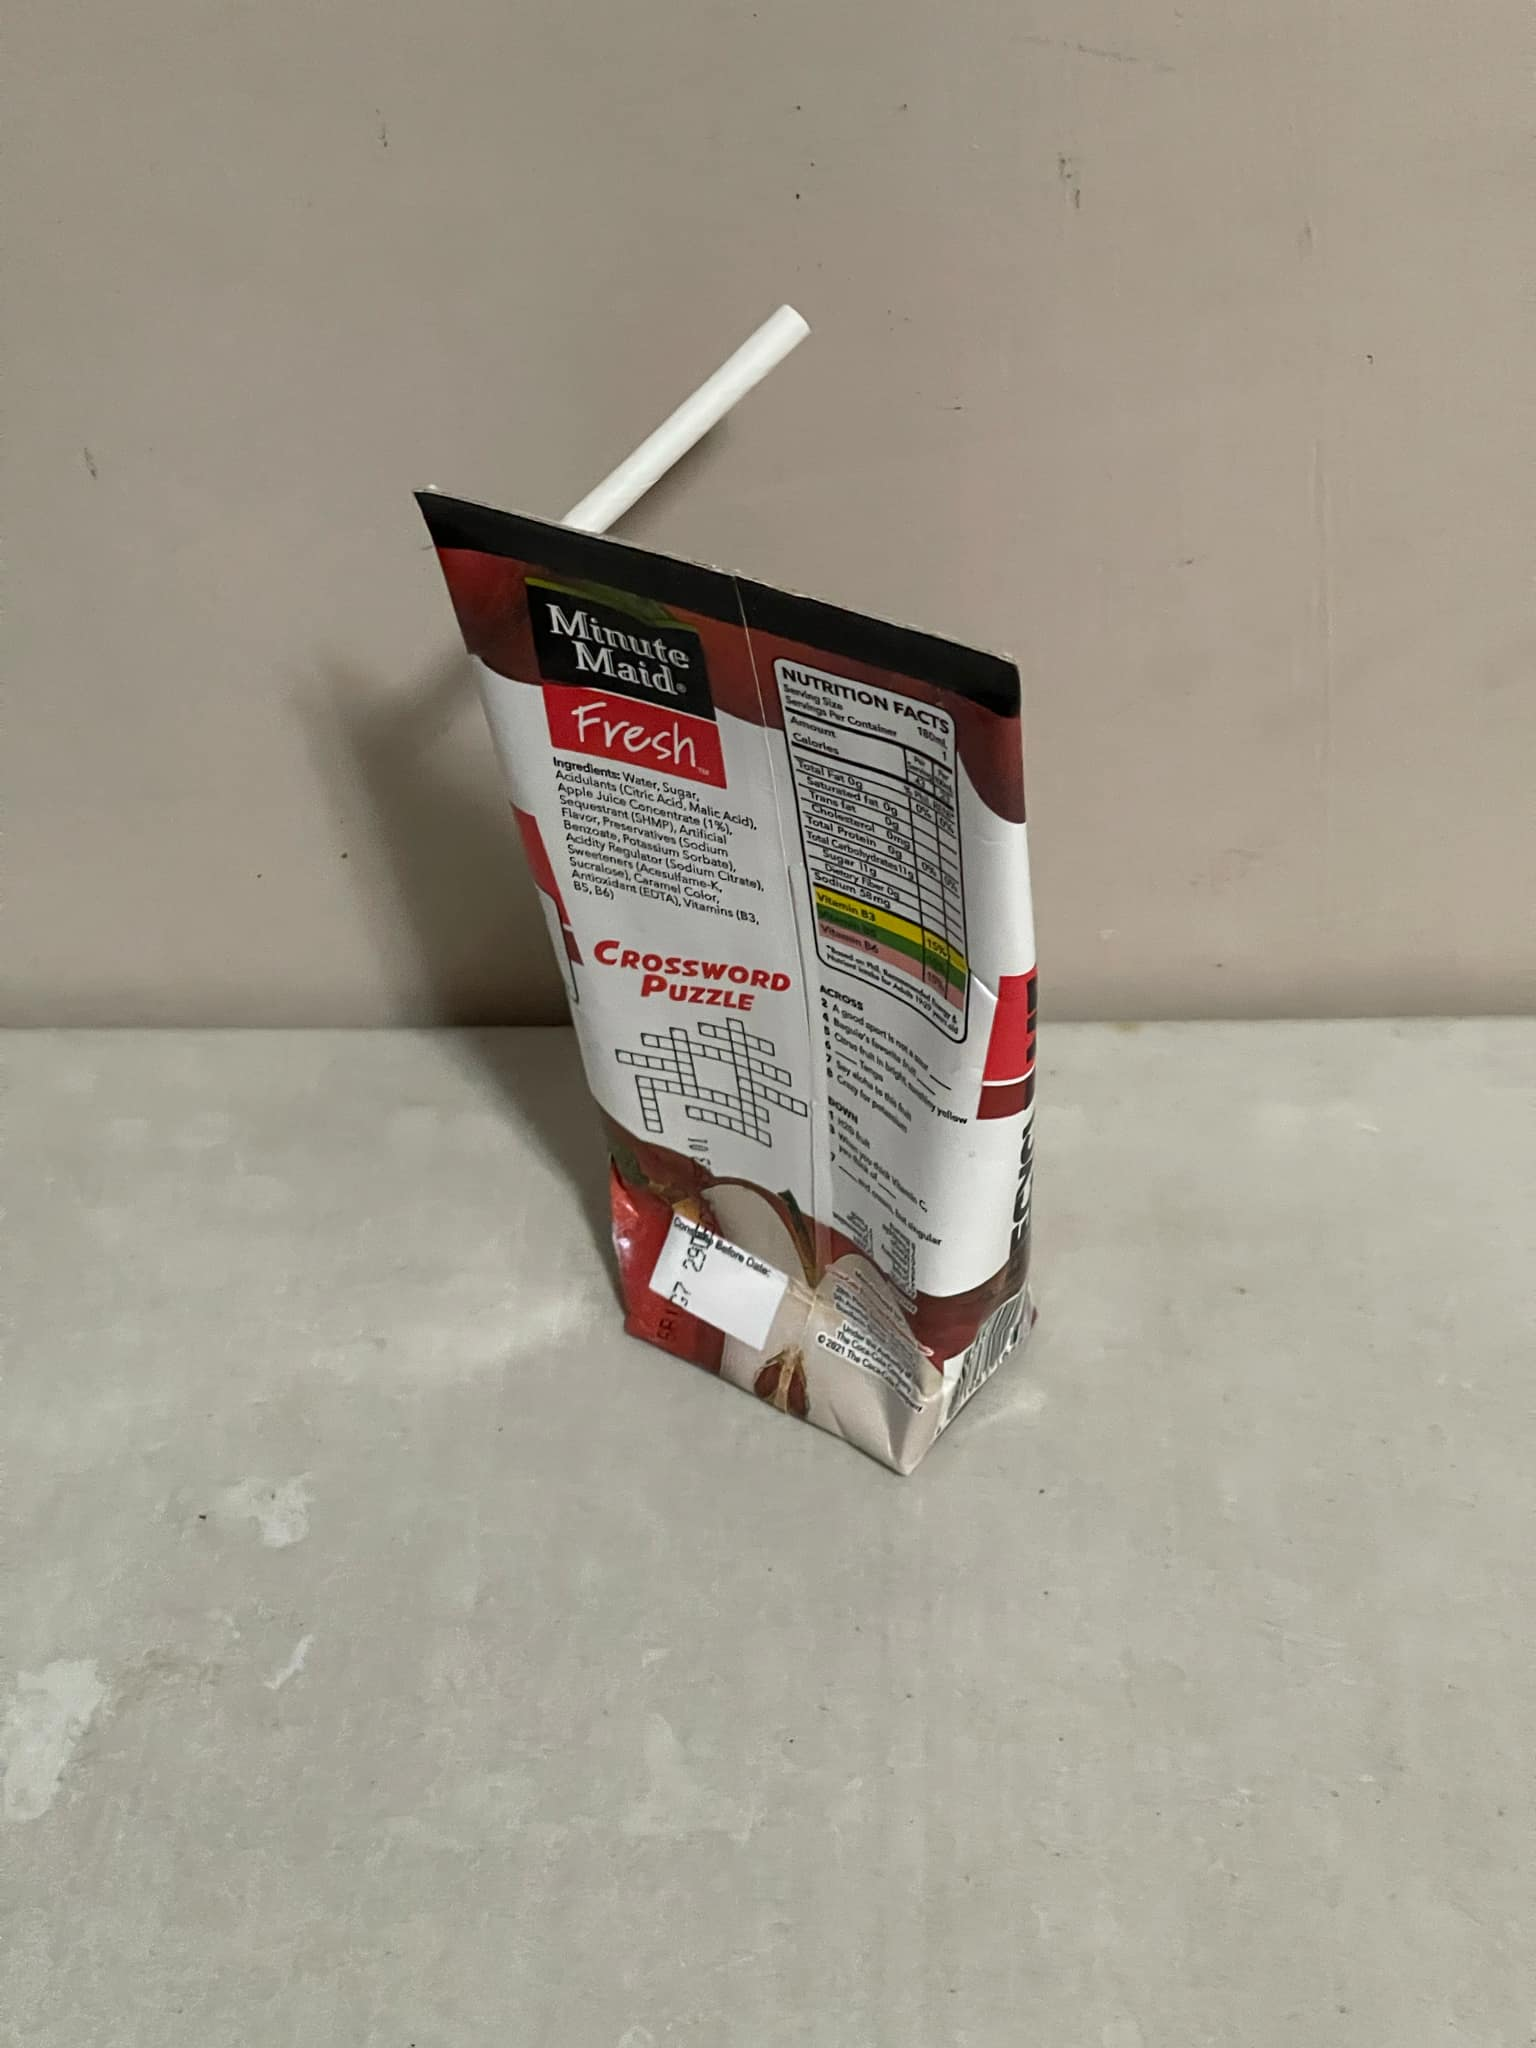Juice Box: (366, 434, 1121, 1521)
